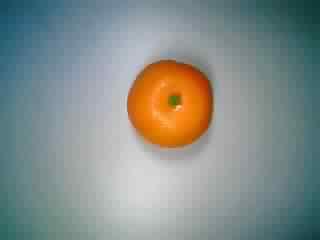orange: (125, 53, 219, 152)
